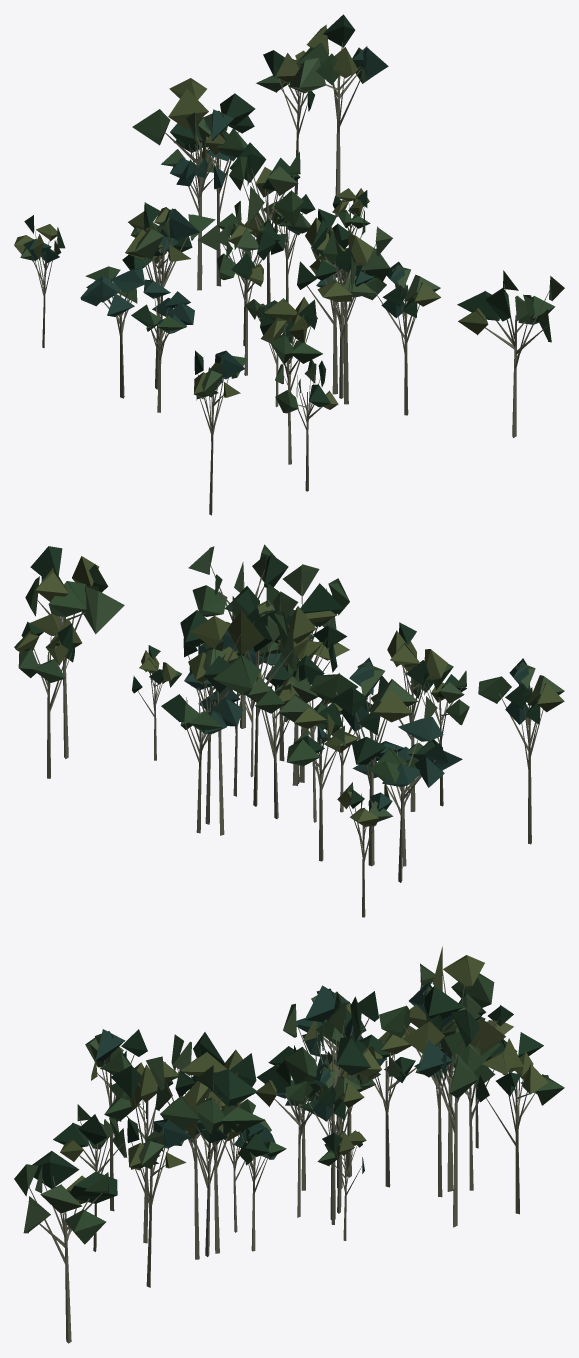
Rendered from forest_18_22.dae.
3 renders of one model, top to bottom at view 1: azimuth 30°, elevation 25°; view 2: azimuth 150°, elevation 25°; view 3: azimuth 270°, elevation 25°, orthographic. The views are drawn at different scales.
Visible parts, largest first — view 1: Node; view 2: Node; view 3: Node.
Boxes of the visible parts, left/top/right/bottom form: Node: left=14, top=14, right=564, bottom=515; Node: left=14, top=544, right=564, bottom=917; Node: left=14, top=946, right=564, bottom=1343.
Bounding box in the file's own units: 10.32 × 12 × 8.67.
